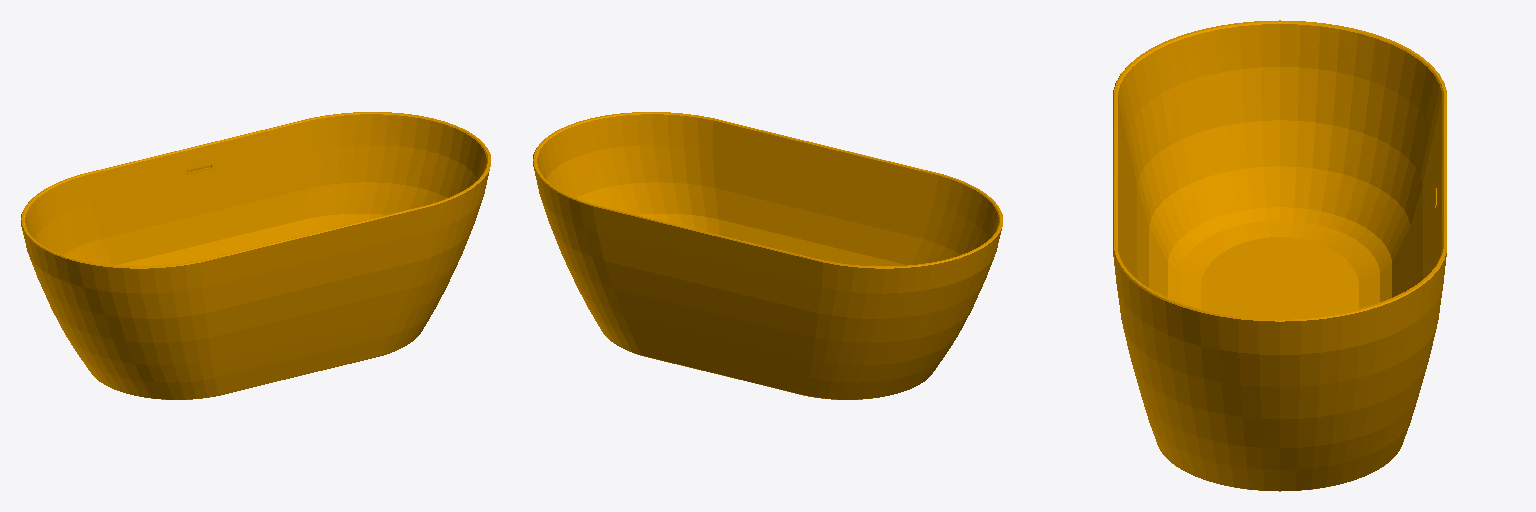
robot.urdf — mesh_object:
<robot name="mesh_object">
            <link name="base">
                <visual>
                    <geometry>
                        <mesh filename="bathtub_2.obj" scale="1 1 1" />
                    </geometry>
                </visual>
                <collision>
                    <geometry>
                        <mesh filename="bathtub_2.obj" scale="1 1 1" />
                    </geometry>
                </collision>
                <inertial>
                    <origin xyz="0 0 0.016764683" rpy="0 0 0" />
                    <mass value="0.5" />
                    <inertia ixx="0.01" iyy="0.01" izz="0.01" ixy="0" ixz="0" iyz="0" />
                </inertial>
            </link>
            </robot>

--- What the picture shows (computed from the rendered views, not written in the file) ---
3 views of the same robot in one strip: view 1: azimuth 30°, elevation 25°; view 2: azimuth 150°, elevation 25°; view 3: azimuth 270°, elevation 25° (orthographic).
Robot: mesh_object — 1 links, 0 joints (none); root link base; default pose: all joints at 0.
Visible links, largest first — view 1: base; view 2: base; view 3: base.
Boxes of the visible links, box(x1,y1,x2,y2) form: base: box(21, 112, 490, 399); base: box(533, 112, 1002, 399); base: box(1113, 20, 1446, 491).
Size in the robot's own frame: 0.1 by 0.0471 by 0.0335 metres.
1 mesh visuals loaded from 1 distinct referenced files (1 OBJ).
